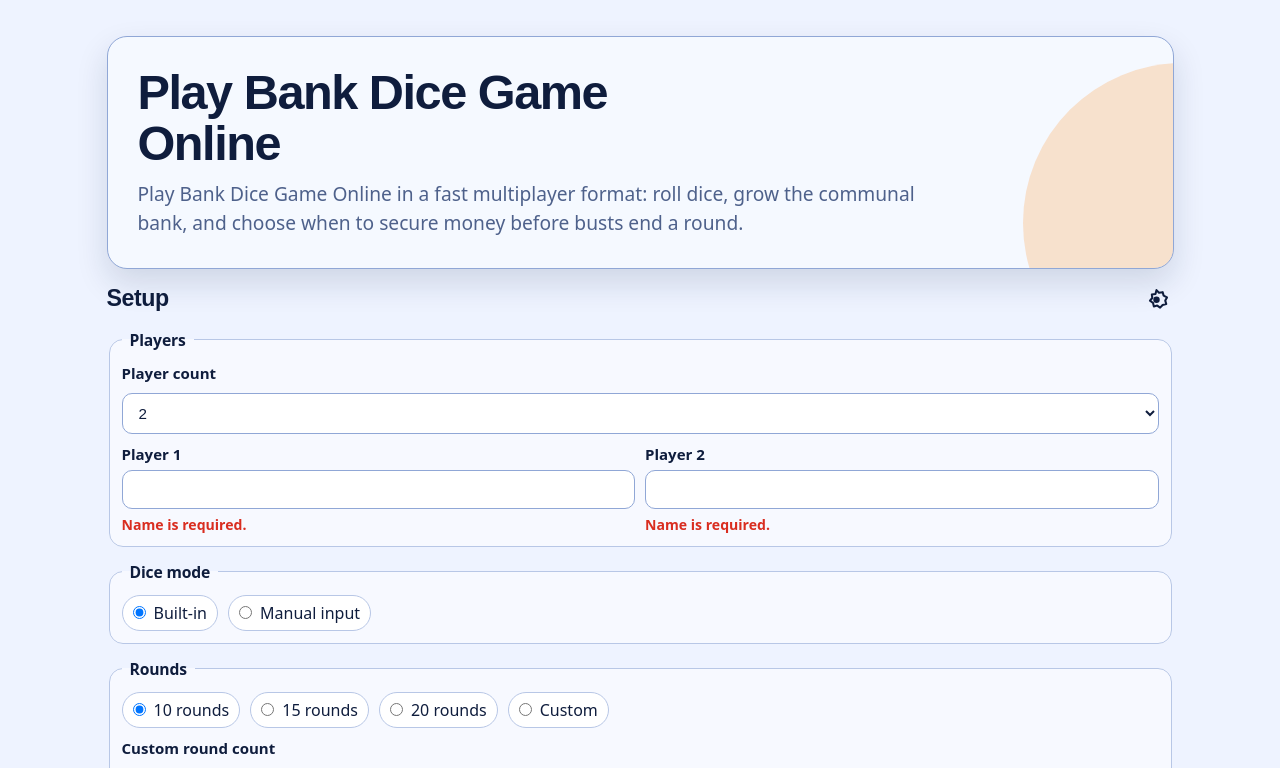
Test: AppShell › persists mute preference and toggles global audio state
Click the button named "Settings": coordinates (1152, 307) [1130, 285, 1174, 329]
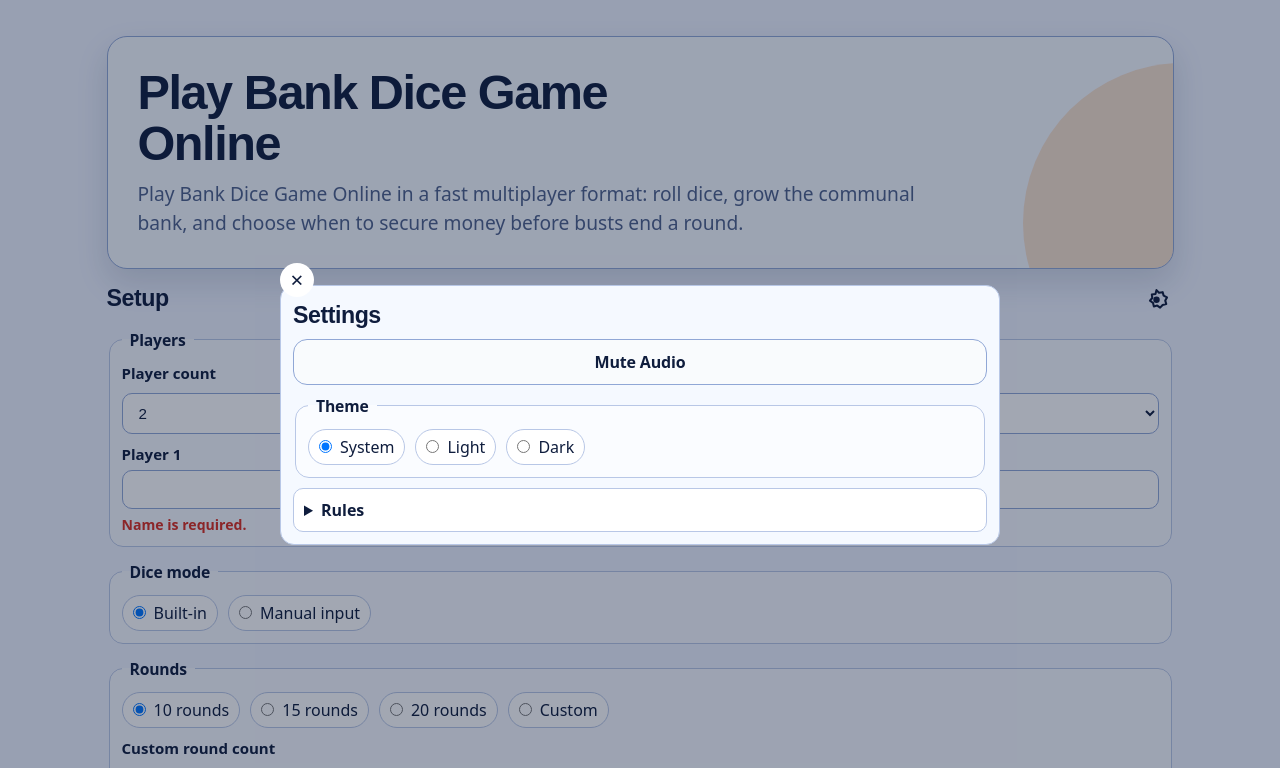
Click the button "Mute Audio": coordinates (640, 362) [293, 339, 987, 385]
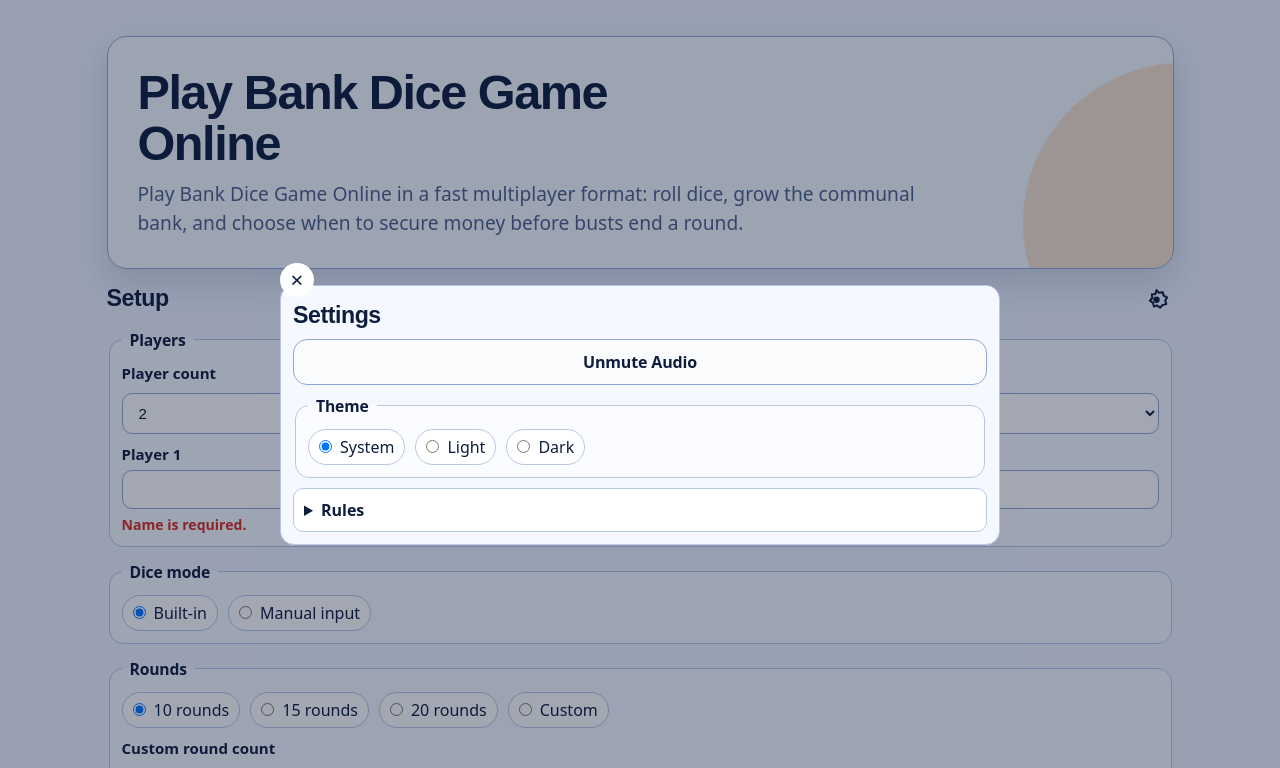
Now the button "Unmute Audio" is shown, box [293, 339, 987, 385]
